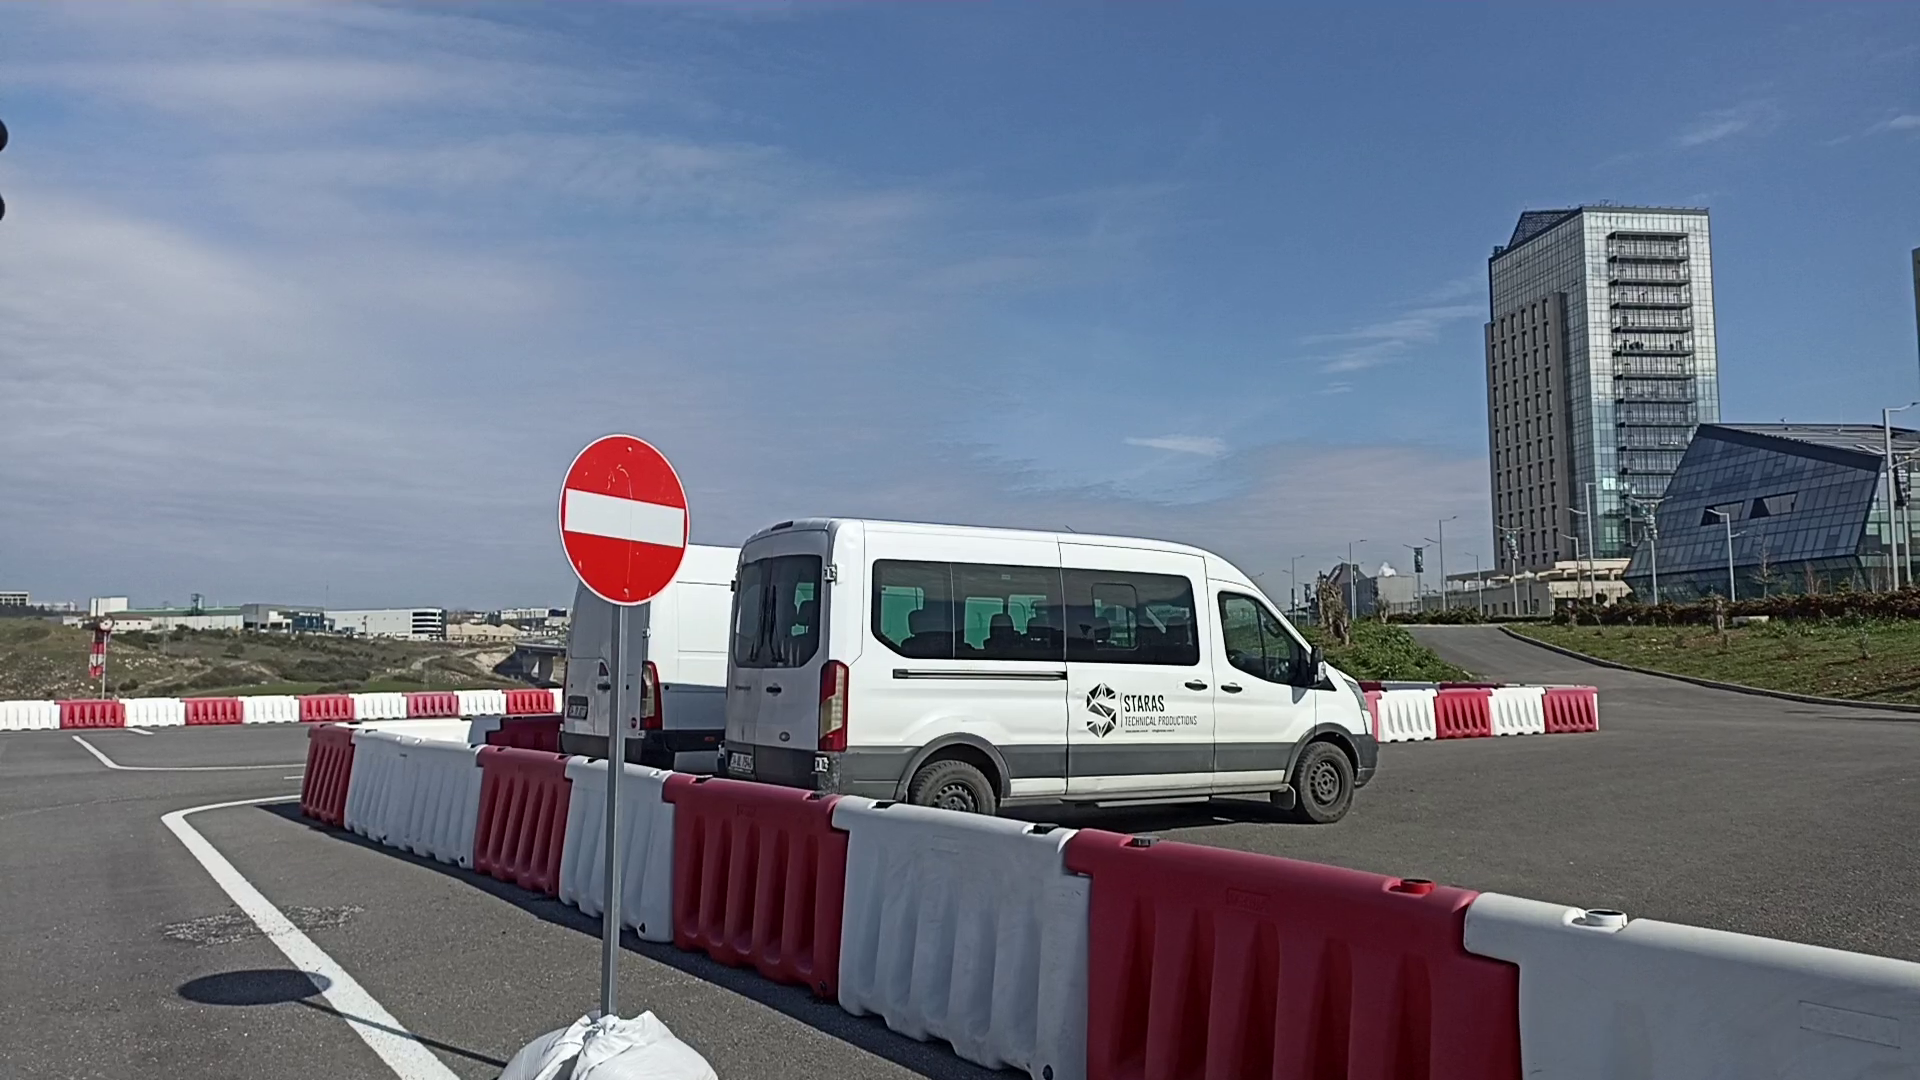noentryway: (553, 430, 694, 611)
